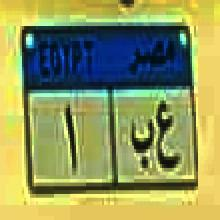1: (63, 104, 82, 172)
ain: (156, 100, 180, 173)
baa: (129, 119, 155, 170)
